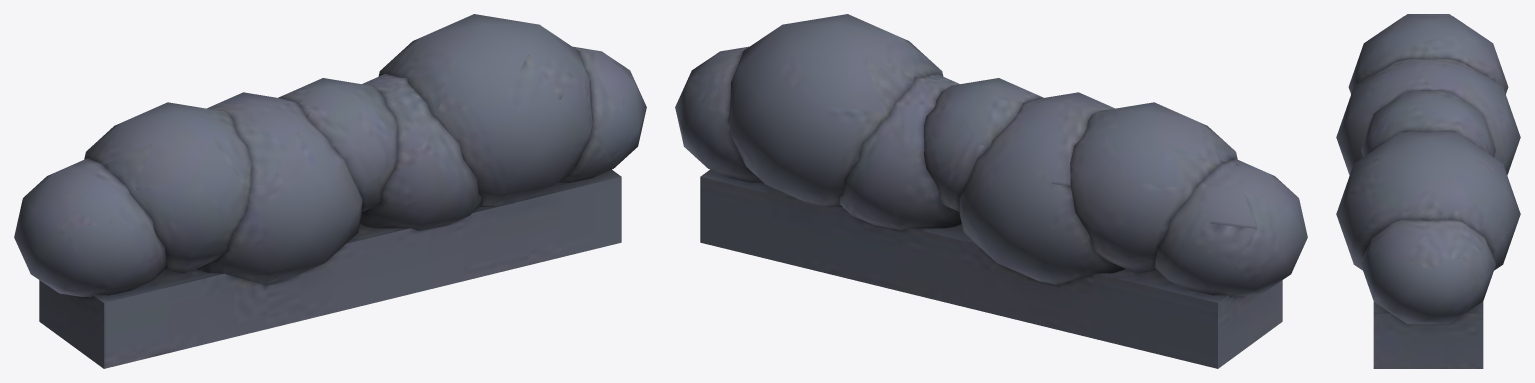
The model's file is nube_tormenta.glb.
3 views of the same model, side by side, from view 1: azimuth 30°, elevation 25°; view 2: azimuth 150°, elevation 25°; view 3: azimuth 270°, elevation 25° (orthographic). The views are drawn at different scales.
Parts seen in each view (by area): view 1: nube_tormenta; view 2: nube_tormenta; view 3: nube_tormenta.
Part boxes in pixels (x1,y1,x2,y2): nube_tormenta: [14, 14, 646, 368]; nube_tormenta: [675, 14, 1307, 368]; nube_tormenta: [1336, 14, 1520, 368].
Size of the model in its own units: 8.69 by 3 by 2.7.
1 material, 1 textured.
